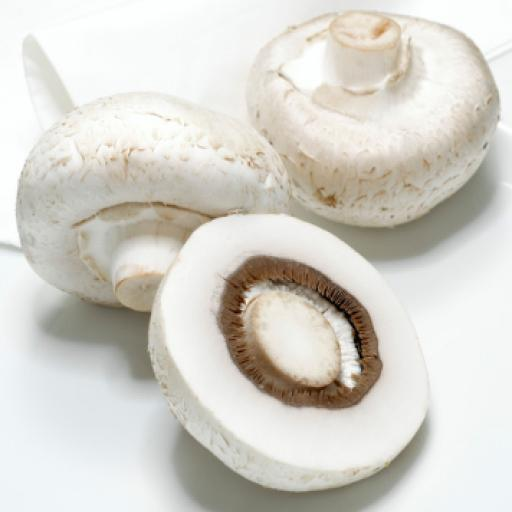Button Mushroom: (147, 213, 438, 495), (17, 89, 292, 313), (238, 8, 501, 227)
